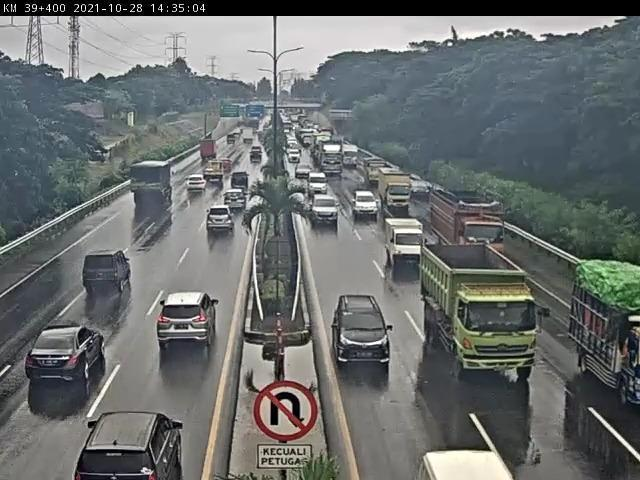car: (80, 407, 186, 480), (23, 316, 109, 390), (332, 294, 391, 373), (154, 288, 220, 350), (422, 446, 520, 480), (76, 243, 134, 299), (384, 213, 427, 278), (304, 193, 343, 230), (204, 205, 243, 235), (352, 189, 382, 222), (224, 188, 251, 212), (304, 173, 339, 191), (410, 179, 434, 205), (233, 172, 258, 192), (187, 173, 208, 195)
truck: (418, 239, 549, 395), (563, 256, 640, 404), (433, 192, 514, 259), (132, 158, 180, 210), (380, 171, 415, 217)
